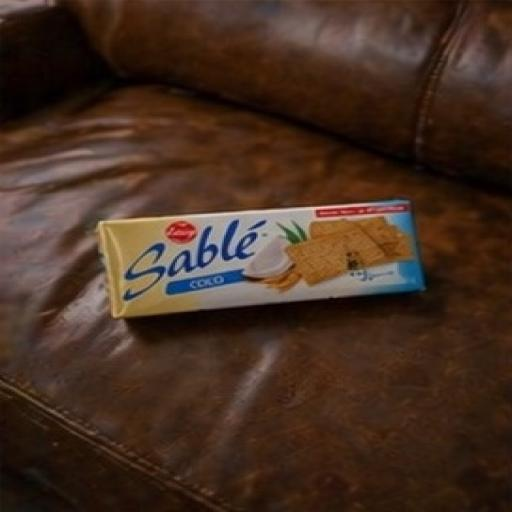sabl: (65, 168, 480, 374)
